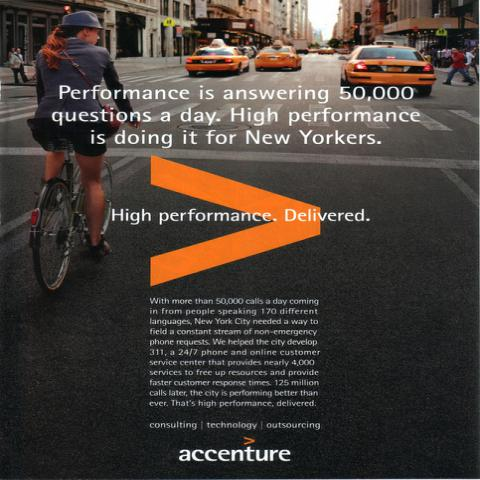car: (340, 42, 436, 96), (183, 38, 251, 77), (254, 46, 302, 72), (317, 47, 333, 53), (308, 47, 320, 53), (339, 48, 348, 54)
